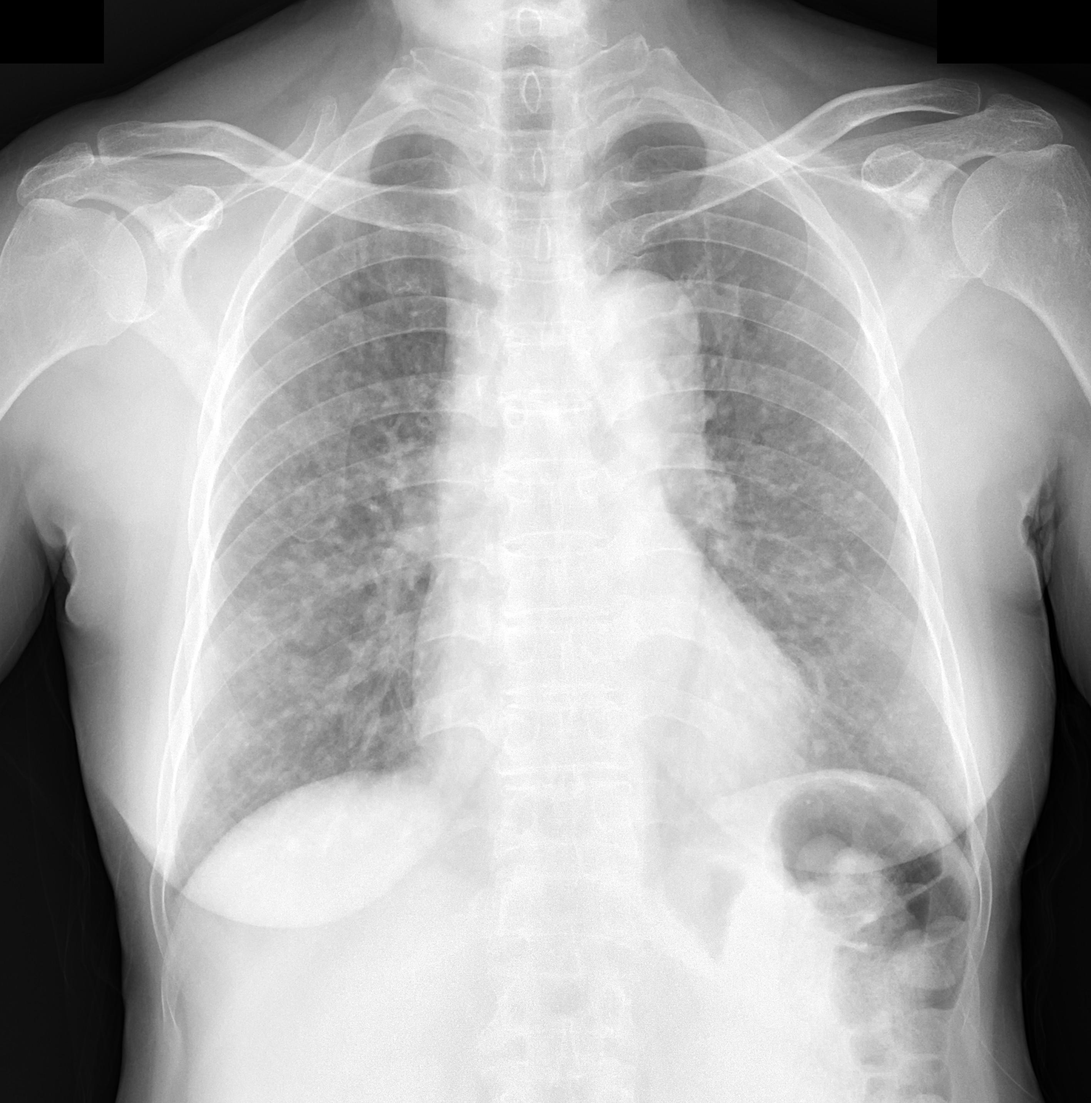Aortic enlargement: (554, 266, 705, 429)
